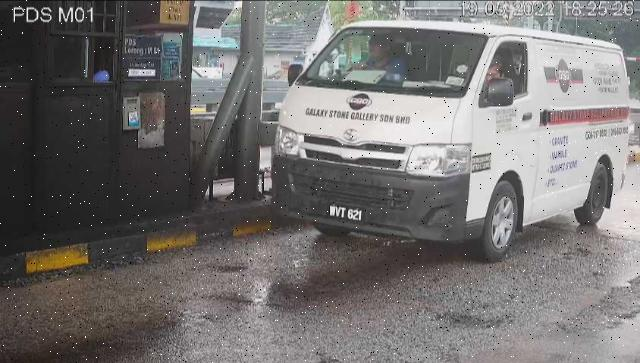License_Plate: (326, 201, 368, 227)
van: (273, 22, 630, 265)
